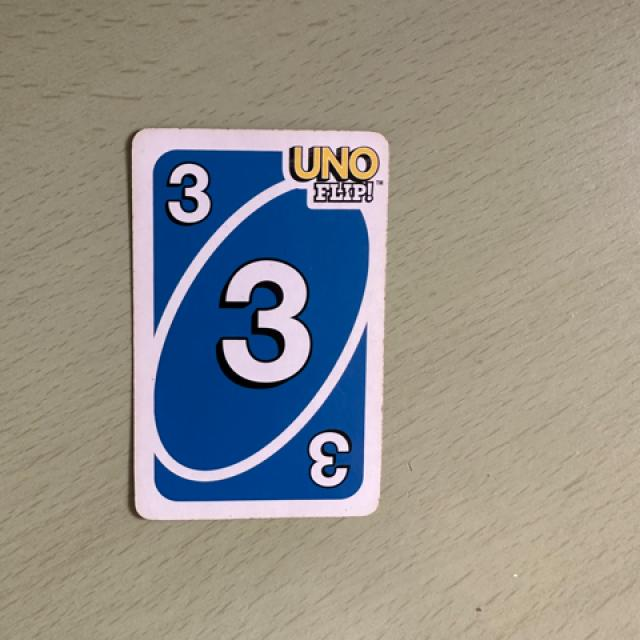lblue-3: (144, 141, 229, 251)
